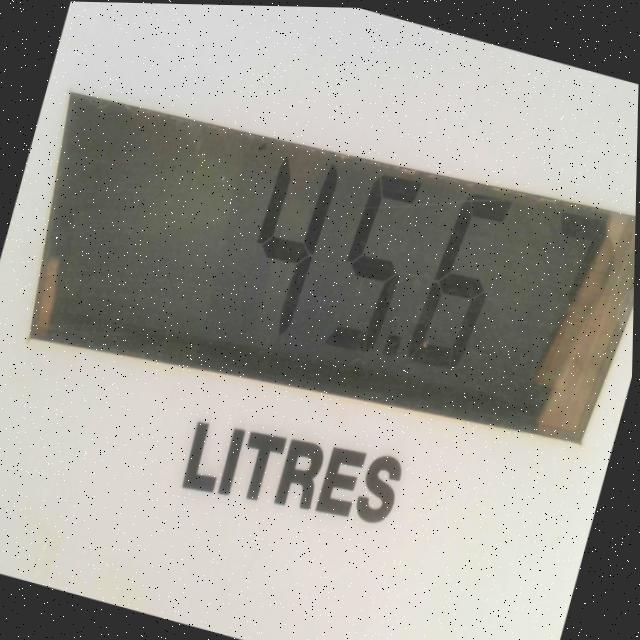.: (376, 316, 405, 360)
4: (232, 153, 345, 345)
5: (324, 170, 425, 356)
6: (409, 185, 520, 383)
